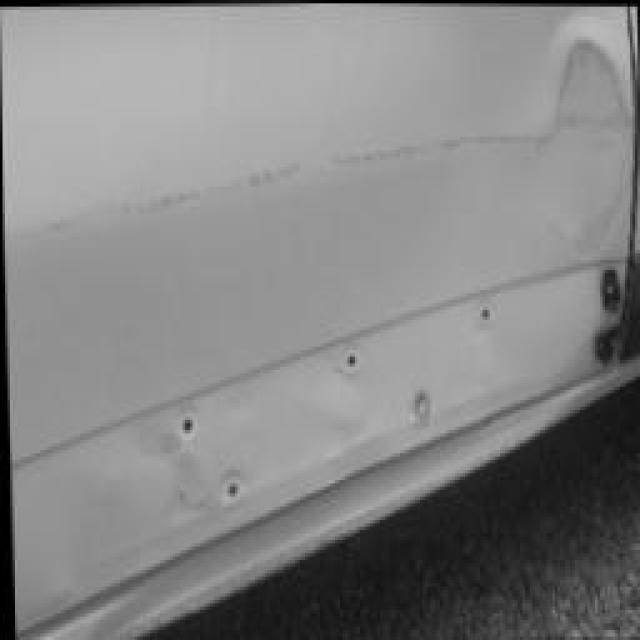Door: (0, 0, 640, 525)
